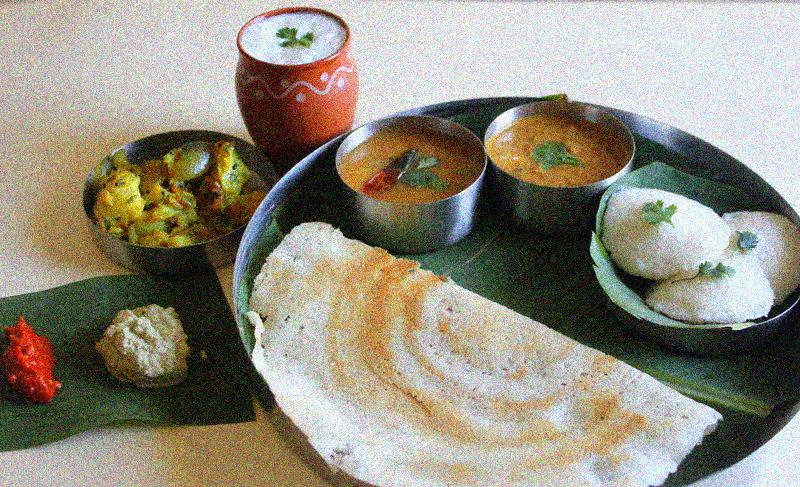dosa: (236, 222, 718, 487)
